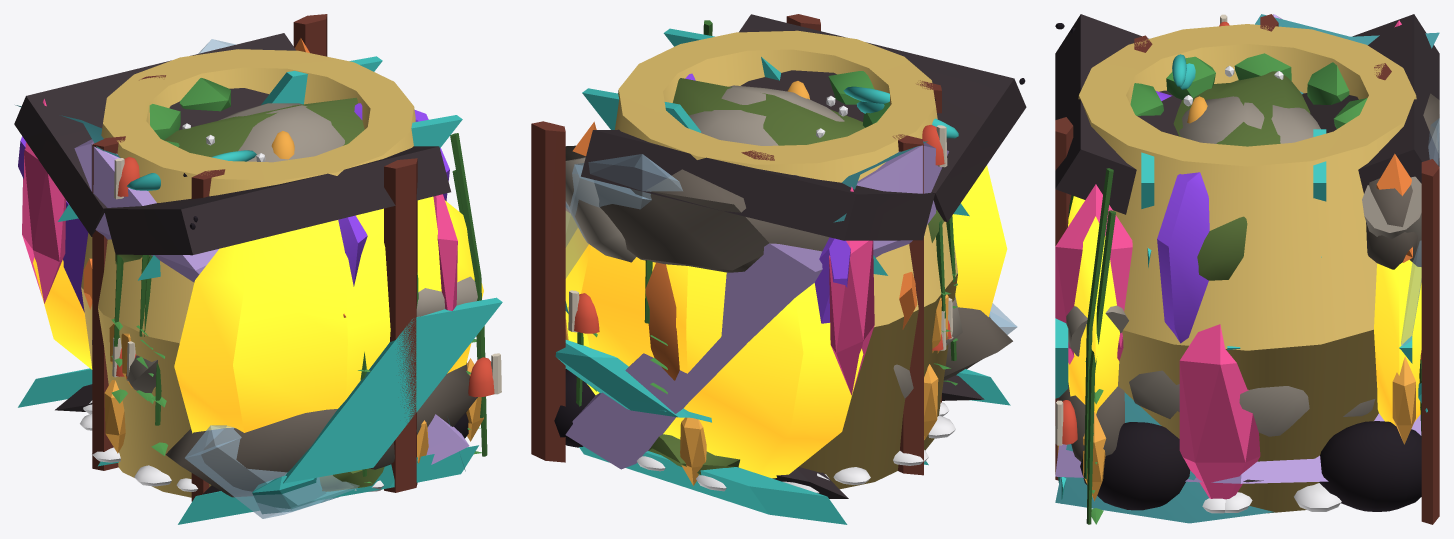
The model's file is maitre-geants.glb.
3 renders of one model, left to right at view 1: azimuth 30°, elevation 25°; view 2: azimuth 150°, elevation 25°; view 3: azimuth 270°, elevation 25°, orthographic. The views are drawn at different scales.
Parts seen in each view (by area): view 1: maitre_geants_corps, maitre_geants_runes; view 2: maitre_geants_corps, maitre_geants_runes; view 3: maitre_geants_corps, maitre_geants_runes.
Part boxes in pixels (x1,y1,x2,y2): maitre_geants_corps: (14,14,501,518); maitre_geants_runes: (18,56,502,524); maitre_geants_corps: (531,14,1026,498); maitre_geants_runes: (565,28,1010,524); maitre_geants_corps: (1055,14,1439,524); maitre_geants_runes: (1055,129,1412,503).
Size of the model in its own units: 2 by 2 by 2.
